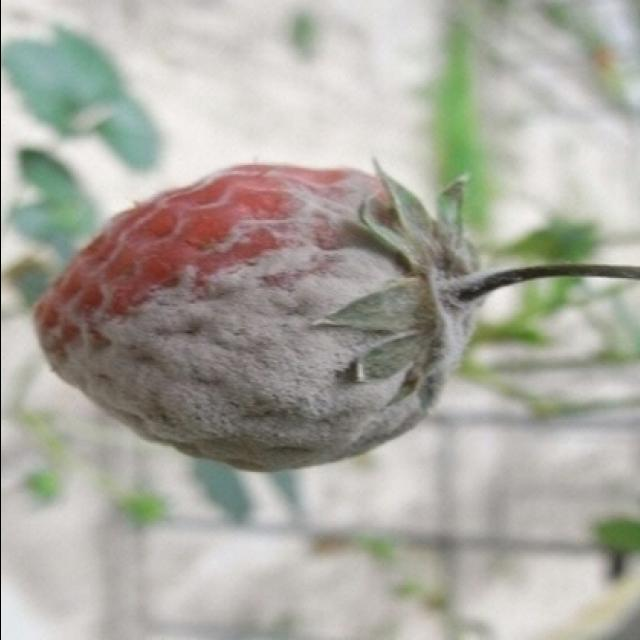Gray Mold: (29, 153, 527, 474)
